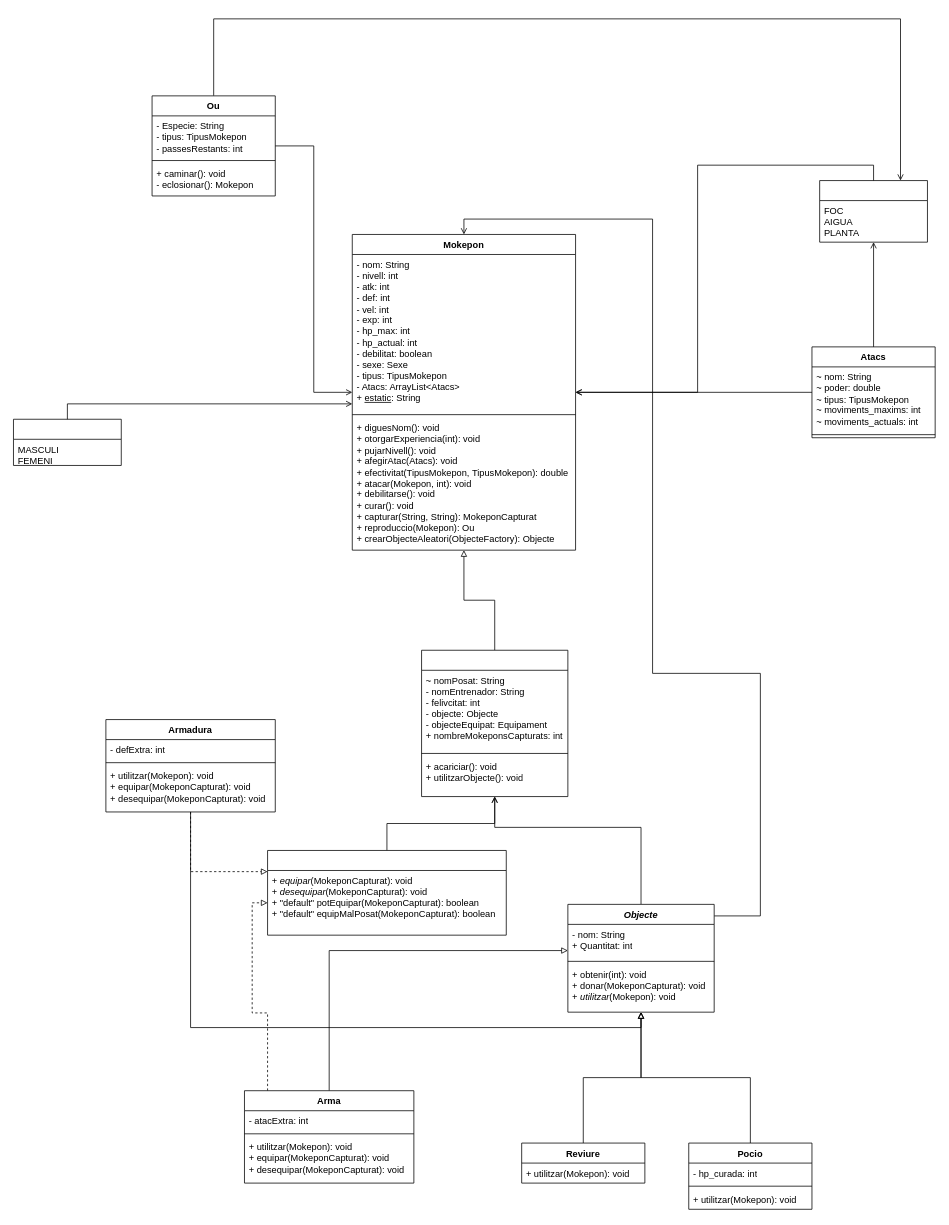
Some shapes in this 949 by 1225 pixel diagram are drawn without their labels. The shapes that lost their labels are listed below. From the top down, each one's box as (x1, y1, x2, y2) in pixels, then its label:
(819, 180, 927, 242): <<enum>> TipusMokepon
(13, 418, 121, 465): <<enum>> Sexe
(421, 649, 568, 797): MokeponCapturat
(267, 850, 506, 935): Equipament
